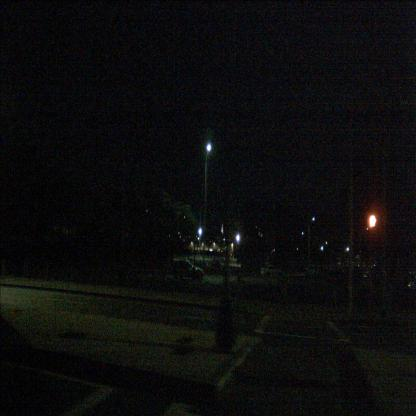vehicle-car: (169, 260, 204, 280)
